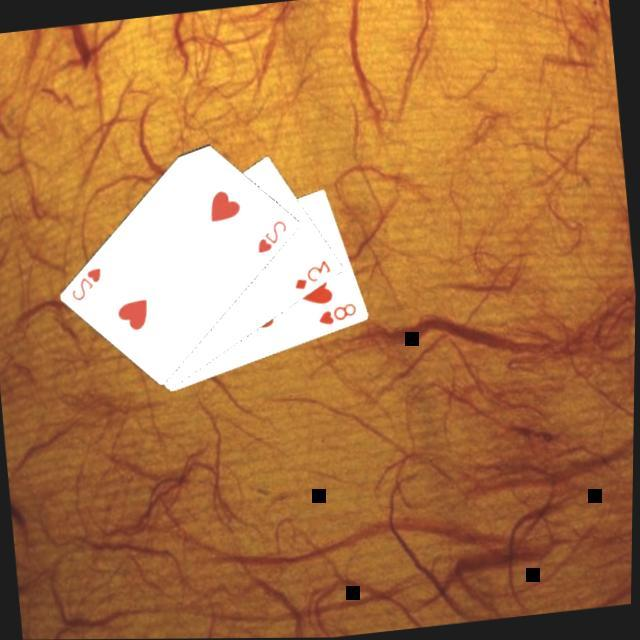2H: (251, 214, 293, 256), (65, 262, 107, 302)
3D: (288, 254, 335, 292)
8H: (313, 297, 360, 328)
